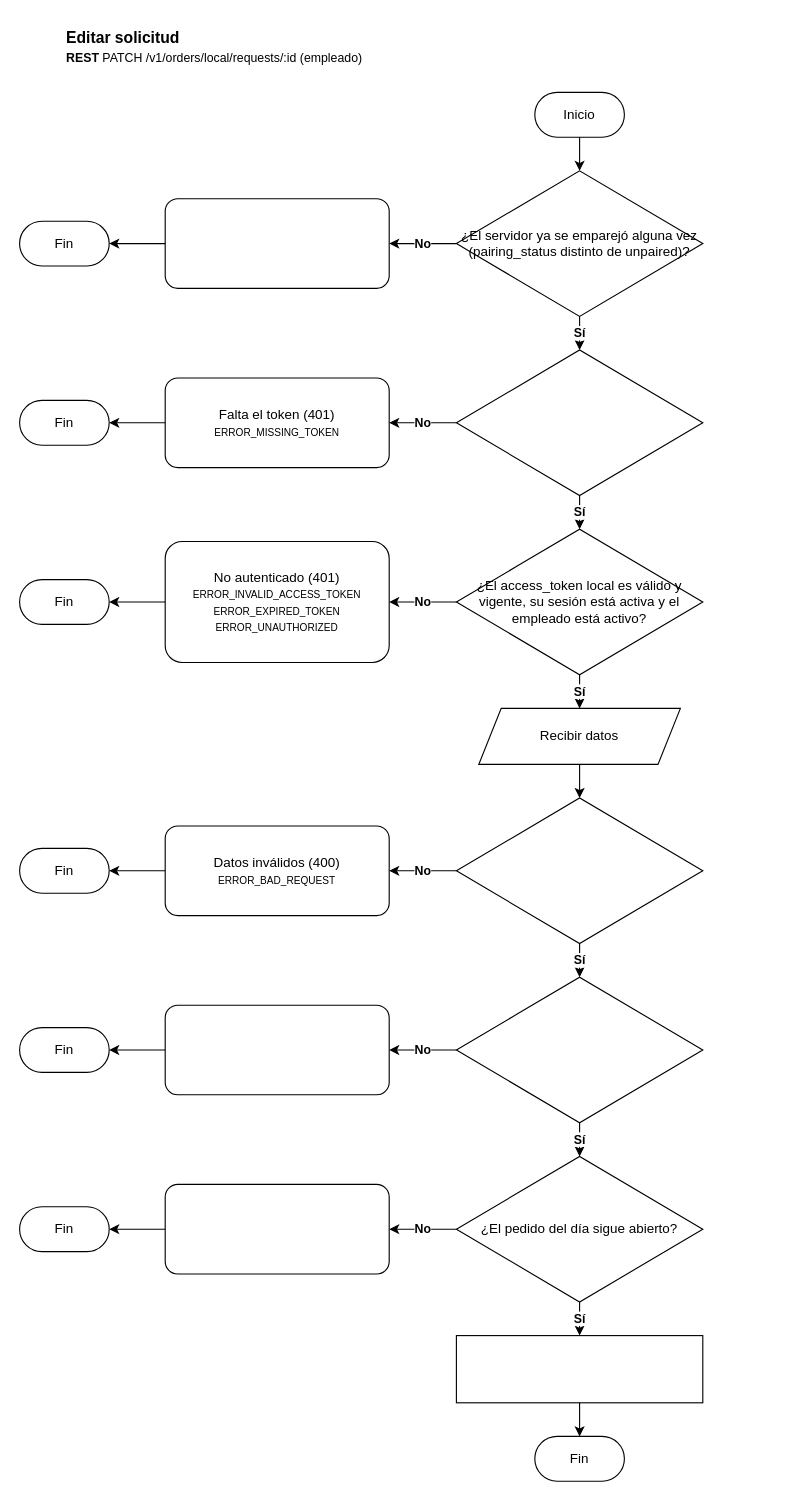
This 801x1501 diagram has some shape labels left out. Here are the shapes that lost their labels. From the top down, the centre of each, then its label:
At [276,243]: "Servidor sin emparejar (409) ERROR_SERVER_NOT_PAIRED".
At [579,422]: "¿Trae Authorization: Bearer?".
At [579,870]: "¿Los datos son válidos?".
At [276,1049]: "No se encontró la solicitud (404) ERROR_ORDER_REQUEST_NOT_FOUND".
At [579,1049]: "¿Existe la solicitud y es suya?".
At [276,1228]: "El pedido ya no está abierto (409) ERROR_ORDER_NOT_OPEN".
At [579,1368]: "Responder 200 con el mensaje REQUEST_UPDATED".
